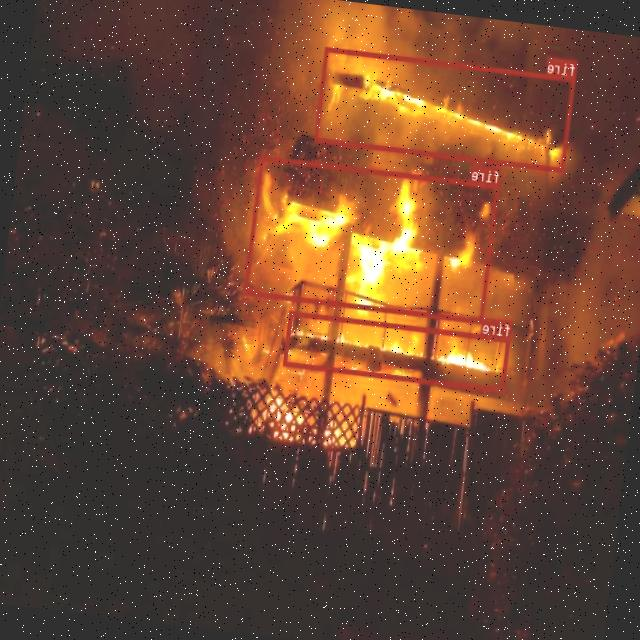fire: (244, 156, 500, 322), (314, 46, 576, 171), (284, 309, 511, 392)
